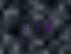eight: (41, 19, 51, 32)
one: (18, 21, 28, 34), (30, 20, 40, 33)
